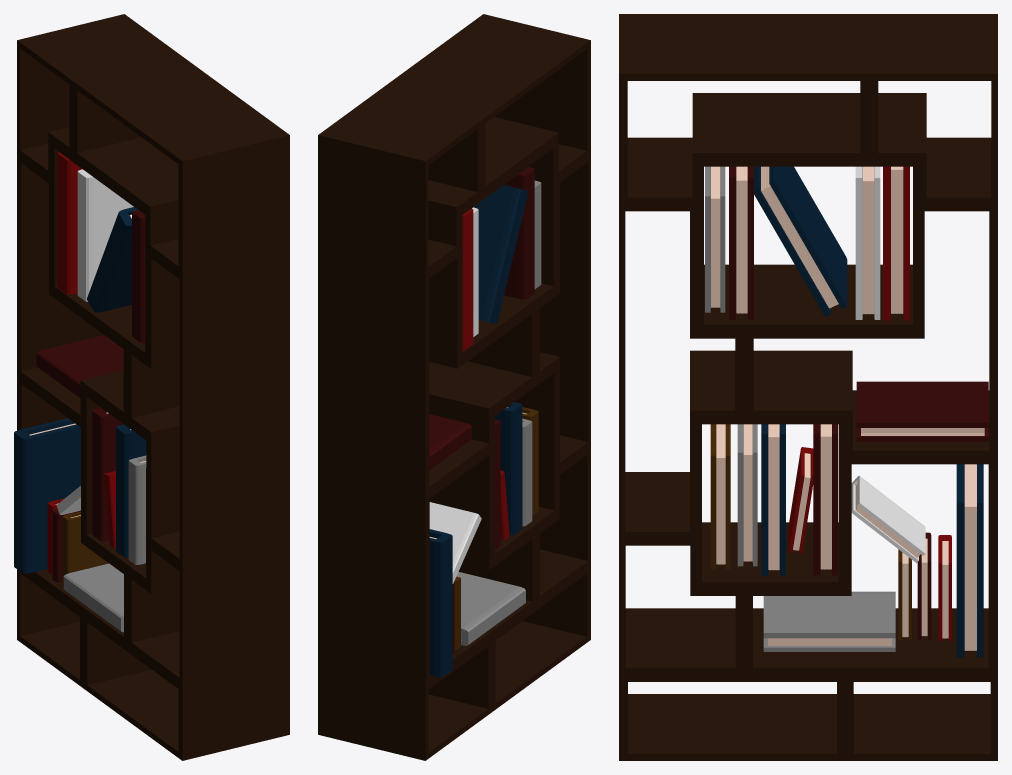
Rendered from Book.fbx.
3 views of the same model, side by side, from view 1: azimuth 30°, elevation 25°; view 2: azimuth 150°, elevation 25°; view 3: azimuth 270°, elevation 25° (orthographic). The views are drawn at different scales.
Parts seen in each view (by area): view 1: Bookshelf, Book.006, Book.002, Book.012, Book.003, Book.001, Book.011, Book.016, Book.013, Book.015, Book.005, Book.009 (+3 smaller); view 2: Bookshelf, Book.003, Book.006, Book.011, Book.013, Book.005, Book.010, Book.001, Book.012, Book.015, Book.004, Book.014 (+4 smaller); view 3: Bookshelf, Book.012, Book.011, Book.003, Book.006, Book.001, Book.002, Book.005, Book.013, Book.016, Book.010, Book.004 (+6 smaller).
Boxes of the visible parts, box(x1,y1,x2,y2) form: Bookshelf: box(17, 14, 289, 760); Book.006: box(14, 418, 80, 573); Book.002: box(77, 169, 133, 301); Book.012: box(36, 335, 123, 398); Book.003: box(87, 207, 137, 312); Book.001: box(57, 152, 82, 294); Book.011: box(63, 563, 123, 632); Book.016: box(92, 407, 123, 541); Book.013: box(116, 424, 146, 557); Book.015: box(128, 455, 146, 564); Book.005: box(132, 209, 145, 342); Book.009: box(62, 511, 108, 585); Bookshelf: box(318, 14, 590, 760); Book.003: box(473, 185, 528, 323); Book.006: box(429, 529, 452, 677); Book.011: box(456, 572, 525, 645); Book.013: box(495, 402, 522, 535); Book.005: box(504, 167, 534, 299); Book.010: box(429, 502, 481, 583); Book.001: box(462, 208, 473, 350); Book.012: box(429, 414, 471, 469); Book.015: box(522, 418, 532, 526); Book.004: box(534, 180, 541, 288); Book.014: box(522, 407, 538, 515); Bookshelf: box(619, 14, 997, 760); Book.012: box(856, 381, 988, 441); Book.011: box(763, 591, 895, 651); Book.003: box(754, 166, 847, 316); Book.006: box(956, 464, 983, 657); Book.001: box(883, 166, 909, 320); Book.002: box(855, 166, 880, 319); Book.005: box(729, 166, 753, 319); Book.013: box(761, 424, 785, 575); Book.016: box(813, 424, 837, 575); Book.010: box(851, 475, 925, 563); Book.004: box(705, 166, 725, 312).
Bounding box in the file's own units: 18.86 × 91.56 × 45.78.
